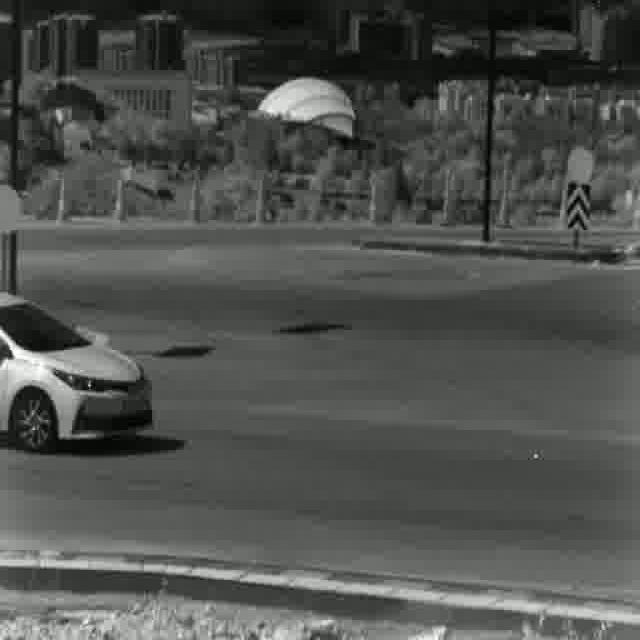Car: (0, 292, 151, 453)
